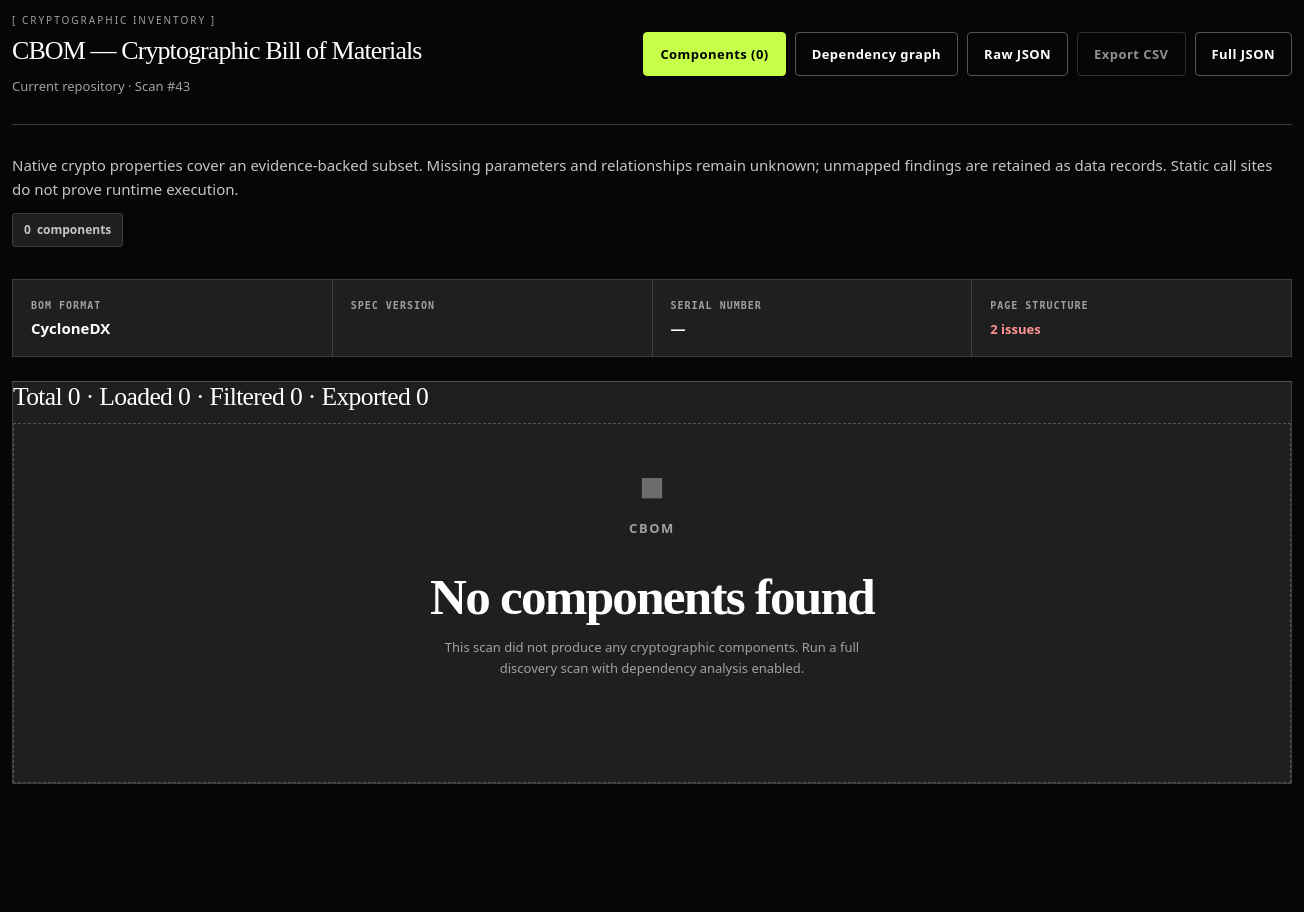
Test: CbomPage › shows download failures and allows retry for a completed empty scan
Expected: the heading "No components found" is shown, [430,569,874,625]
Click the button "Full JSON" at (1243, 54), box [1194,32,1292,76]
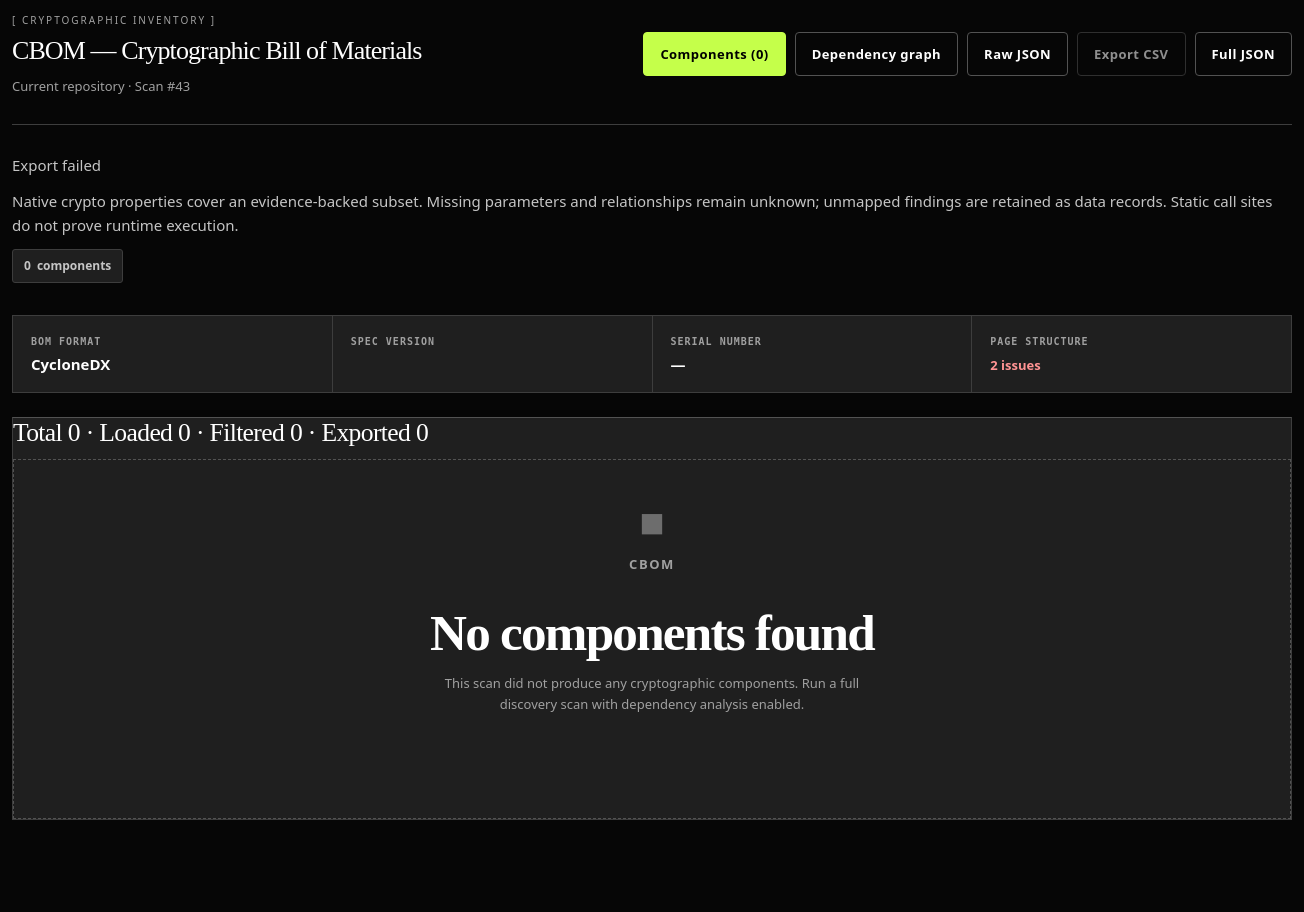
Result: the message reads "Export failed" at [12,155,101,175]
Click the button "Full JSON" at (1243, 54), box [1194,32,1292,76]
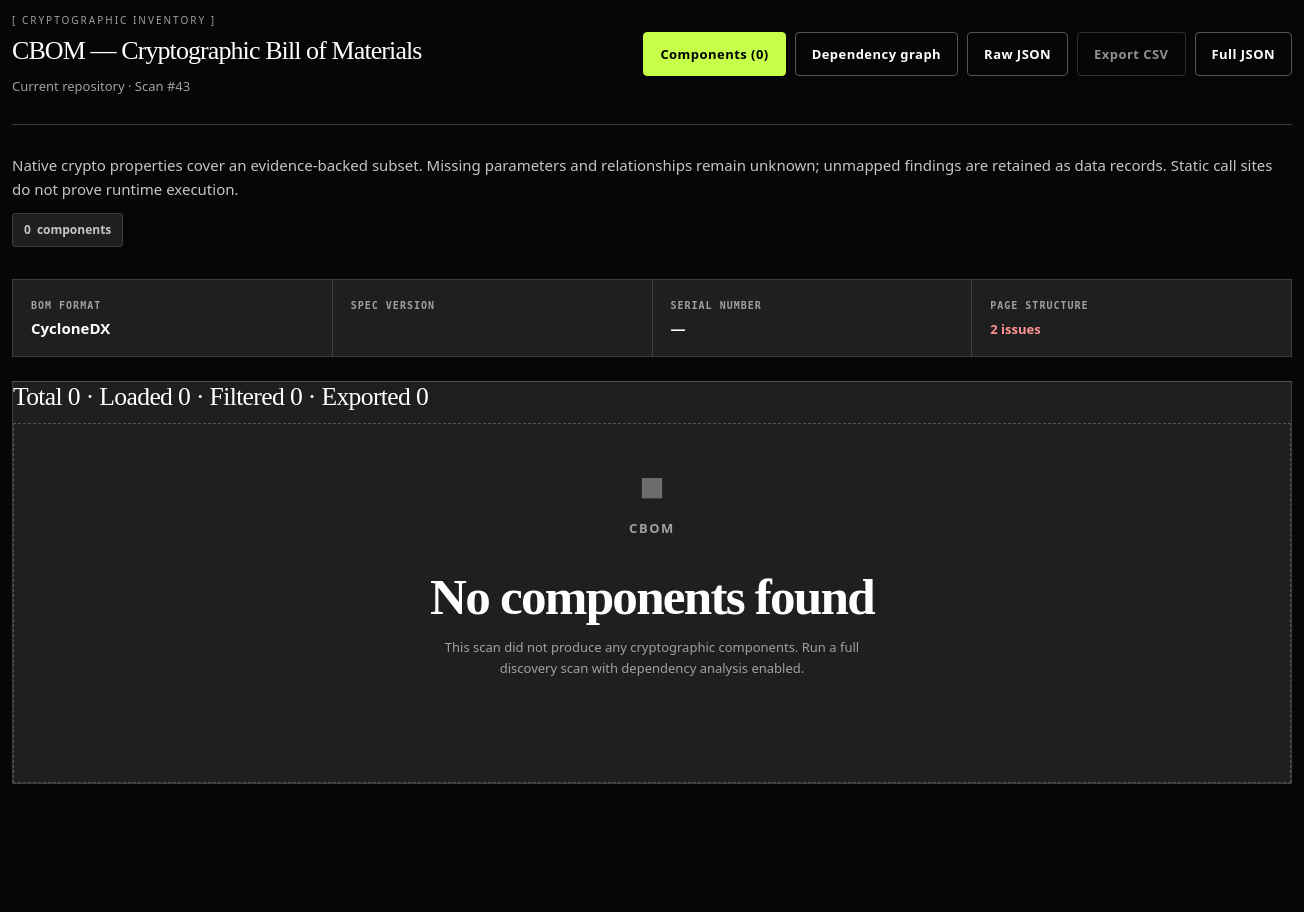
Result: the message "Export failed" is gone
